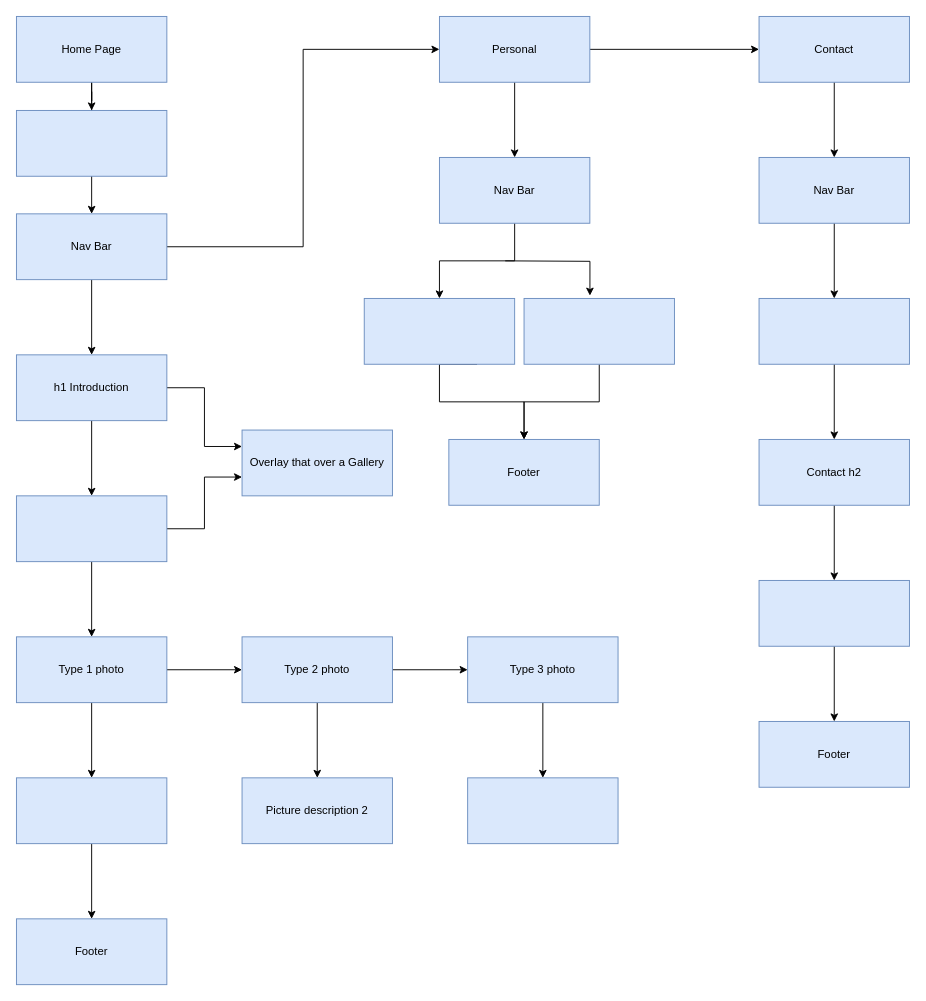
This 926x1001 diagram has some shape labels left out. The centre of each missing label's shape, as x and y in pixels:
Contact h1: [833,331]
Form: [833,613]
Gallery 1: [439,331]
Gallery 2: [598,331]
h2 Description: [91,528]
Logo: [91,143]
Picture description 1: [91,810]
Picture description 3: [542,810]
